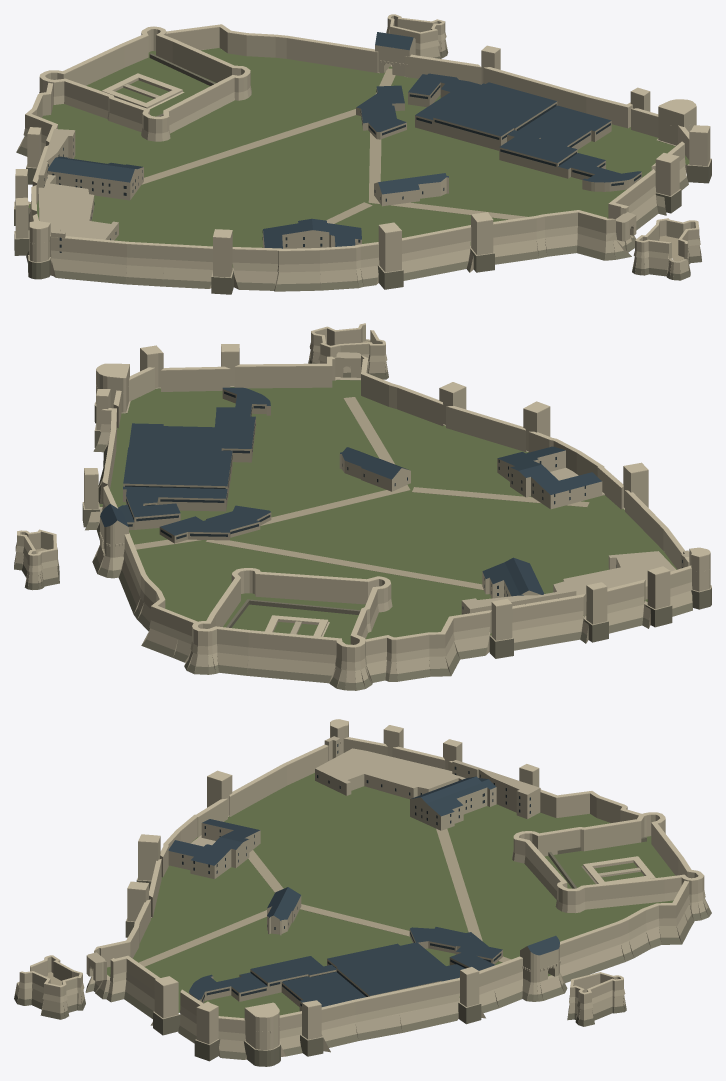
The model's file is chateau-de-caen-far.glb.
The picture shows the model from 3 angles, top to bottom: view 1: azimuth 30°, elevation 25°; view 2: azimuth 150°, elevation 25°; view 3: azimuth 270°, elevation 25°; orthographic projection. The views are drawn at different scales.
Visible parts, largest first — view 1: chateau-de-caen-0-stone, chateau-de-caen-0-bailey, chateau-de-caen-0-slate, chateau-de-caen-0-trim, chateau-de-caen-0-course, chateau-de-caen-0-modern, chateau-de-caen-0-gravel, chateau-de-caen-0-glass; view 2: chateau-de-caen-0-bailey, chateau-de-caen-0-stone, chateau-de-caen-0-slate, chateau-de-caen-0-trim, chateau-de-caen-0-course, chateau-de-caen-0-gravel, chateau-de-caen-0-modern, chateau-de-caen-0-glass; view 3: chateau-de-caen-0-bailey, chateau-de-caen-0-stone, chateau-de-caen-0-slate, chateau-de-caen-0-trim, chateau-de-caen-0-course, chateau-de-caen-0-gravel, chateau-de-caen-0-modern, chateau-de-caen-0-glass.
Boxes of the visible parts, x1,y1,x2,y2 form: chateau-de-caen-0-stone: (14, 16, 711, 289); chateau-de-caen-0-bailey: (28, 48, 689, 267); chateau-de-caen-0-slate: (48, 32, 641, 248); chateau-de-caen-0-trim: (15, 14, 710, 251); chateau-de-caen-0-course: (14, 47, 711, 294); chateau-de-caen-0-modern: (356, 82, 641, 191); chateau-de-caen-0-gravel: (142, 68, 684, 261); chateau-de-caen-0-glass: (44, 85, 641, 252); chateau-de-caen-0-bailey: (99, 380, 676, 644); chateau-de-caen-0-stone: (14, 325, 711, 688); chateau-de-caen-0-slate: (100, 387, 601, 596); chateau-de-caen-0-trim: (17, 323, 710, 647); chateau-de-caen-0-course: (14, 359, 711, 690); chateau-de-caen-0-gravel: (36, 341, 589, 590); chateau-de-caen-0-modern: (123, 389, 271, 543); chateau-de-caen-0-glass: (125, 391, 682, 613); chateau-de-caen-0-bailey: (107, 773, 674, 1018); chateau-de-caen-0-stone: (14, 723, 711, 1059); chateau-de-caen-0-slate: (168, 776, 559, 1006); chateau-de-caen-0-trim: (19, 719, 704, 1020); chateau-de-caen-0-course: (14, 837, 711, 1066); chateau-de-caen-0-gravel: (46, 828, 510, 985); chateau-de-caen-0-modern: (189, 929, 502, 1011); chateau-de-caen-0-glass: (182, 744, 530, 1006).
Size of the model in its own units: 316 by 27 by 311.
